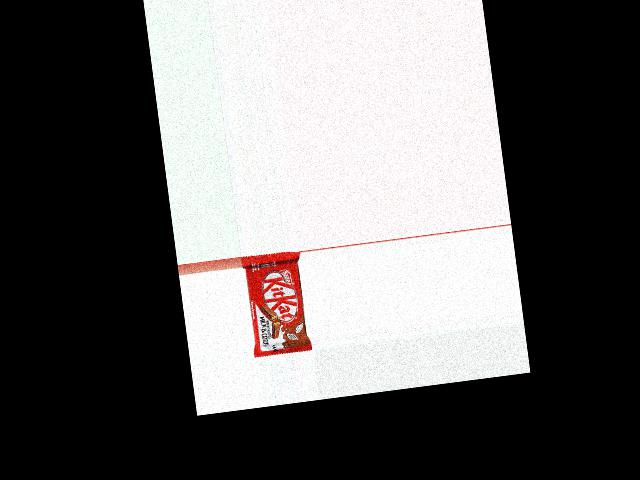chocolate: (240, 250, 312, 358)
